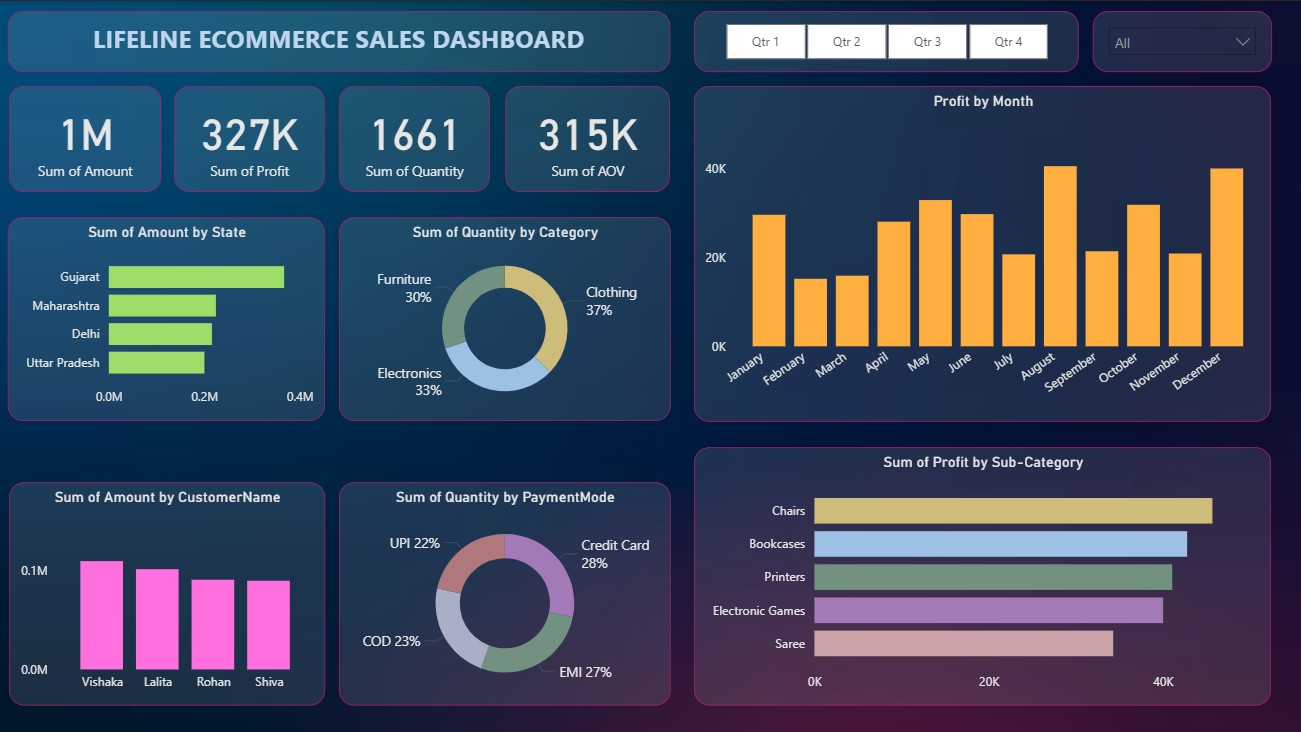

The dashboard page shown, as its layout file describes it:
{"tool":"powerbi","page":{"name":"Page 1","canvas":[1280,720],"ordinal":0},"visuals":[{"type":"textbox","box":[8.2,9.6,650.4,60.4],"z":0},{"type":"columnChart","title":"Profit by Month","fields":{"Category":["Orders.Order Date.Variation.Date Hierarchy.Month"],"Y":["Sum(Details.Profit)"]},"box":[682,83.7,566.7,329.3],"z":1000},{"type":"barChart","fields":{"Category":["Details.Sub-Category"],"Y":["Sum(Details.Profit)"]},"box":[682,437.7,566.7,253.9],"z":2000},{"type":"donutChart","fields":{"Category":["Details.Category"],"Y":["Sum(Details.Quantity)"]},"box":[333.4,212.7,325.2,200.3],"z":2001},{"type":"donutChart","fields":{"Y":["Sum(Details.Quantity)"],"Category":["Details.PaymentMode"]},"box":[333.4,472,325.2,219.6],"z":2002},{"type":"card","fields":{"Values":["Sum(Details.Amount)"]},"box":[9.6,83.7,149.6,104.3],"z":2003},{"type":"card","fields":{"Values":["Sum(Details.Profit)"]},"box":[171.5,83.7,148.2,104.3],"z":2004},{"type":"card","fields":{"Values":["Sum(Details.Quantity)"]},"box":[333.4,83.7,148.2,104.3],"z":2005},{"type":"card","fields":{"Values":["Sum(Details.AOV)"]},"box":[496.7,83.7,161.9,104.3],"z":2006},{"type":"barChart","fields":{"Category":["Orders.State"],"Y":["Sum(Details.Amount)"]},"box":[8.2,212.7,311.5,200.3],"z":2007},{"type":"columnChart","fields":{"Category":["Orders.CustomerName"],"Y":["Sum(Details.Amount)"]},"box":[9.6,472,310.1,219.6],"z":2008},{"type":"slicer","fields":{"Values":["Orders.Order Date.Variation.Date Hierarchy.Quarter"]},"box":[682,9.6,377.4,60.4],"z":2009},{"type":"slicer","fields":{"Values":["Orders.State"]},"box":[1073.1,9.6,175.6,60.4],"z":2010}]}

Visuals, with their boxes in screenshot pixels (x1, y1, x2, y2), scaled from the page's 1280x720 canvas onto the 1301x732 screenshot:
textbox: {"left": 8, "top": 10, "right": 669, "bottom": 71}
"Profit by Month" columnChart: {"left": 693, "top": 85, "right": 1269, "bottom": 420}
barChart - Details.Sub-Category x Sum(Details.Profit): {"left": 693, "top": 445, "right": 1269, "bottom": 703}
donutChart - Details.Category x Sum(Details.Quantity): {"left": 339, "top": 216, "right": 669, "bottom": 420}
donutChart - Sum(Details.Quantity) x Details.PaymentMode: {"left": 339, "top": 480, "right": 669, "bottom": 703}
card - Sum(Details.Amount): {"left": 10, "top": 85, "right": 162, "bottom": 191}
card - Sum(Details.Profit): {"left": 174, "top": 85, "right": 325, "bottom": 191}
card - Sum(Details.Quantity): {"left": 339, "top": 85, "right": 490, "bottom": 191}
card - Sum(Details.AOV): {"left": 505, "top": 85, "right": 669, "bottom": 191}
barChart - Orders.State x Sum(Details.Amount): {"left": 8, "top": 216, "right": 325, "bottom": 420}
columnChart - Orders.CustomerName x Sum(Details.Amount): {"left": 10, "top": 480, "right": 325, "bottom": 703}
slicer - Orders.Order Date.Variation.Date Hierarchy.Quarter: {"left": 693, "top": 10, "right": 1077, "bottom": 71}
slicer - Orders.State: {"left": 1091, "top": 10, "right": 1269, "bottom": 71}
